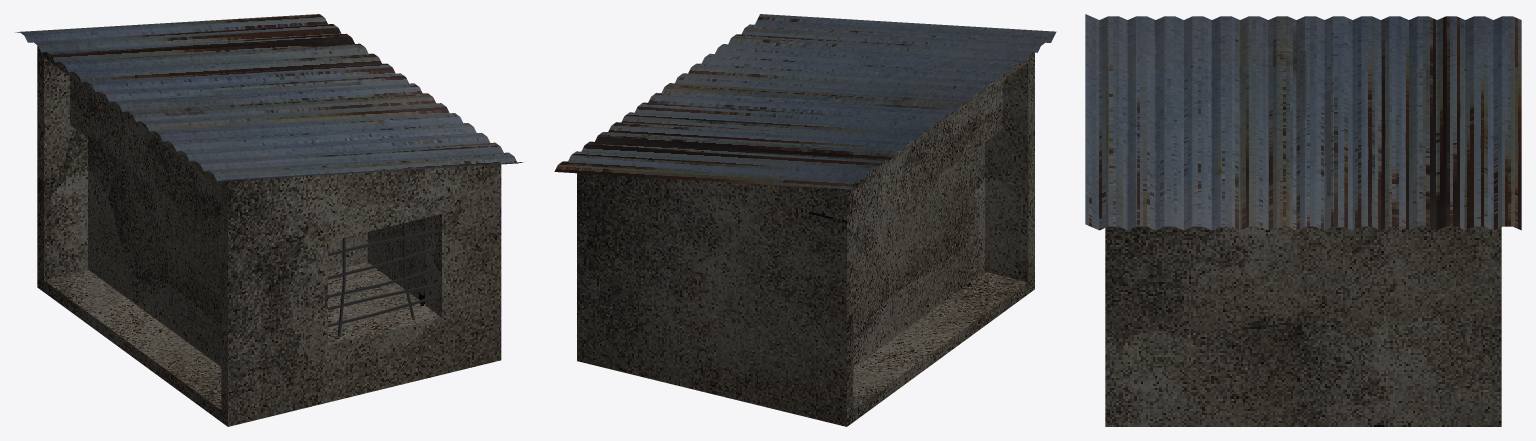
The model's file is shop_01.glb.
3 renders of one model, left to right at view 1: azimuth 30°, elevation 25°; view 2: azimuth 150°, elevation 25°; view 3: azimuth 270°, elevation 25°, orthographic. The views are drawn at different scales.
Parts seen in each view (by area): view 1: traffic_station, Patra.001, metal_bars; view 2: traffic_station, Patra.001; view 3: Patra.001, traffic_station.
Part boxes in pixels (box(x1,y1,x2,y2)): traffic_station: box(37, 45, 501, 426); Patra.001: box(15, 14, 523, 181); metal_bars: box(328, 222, 435, 336); traffic_station: box(577, 52, 1034, 426); Patra.001: box(554, 14, 1056, 189); Patra.001: box(1085, 14, 1521, 230); traffic_station: box(1105, 226, 1501, 426).
Bounding box in the file's own units: 3.2 × 2.61 × 3.85.
3 materials, 2 textured.
